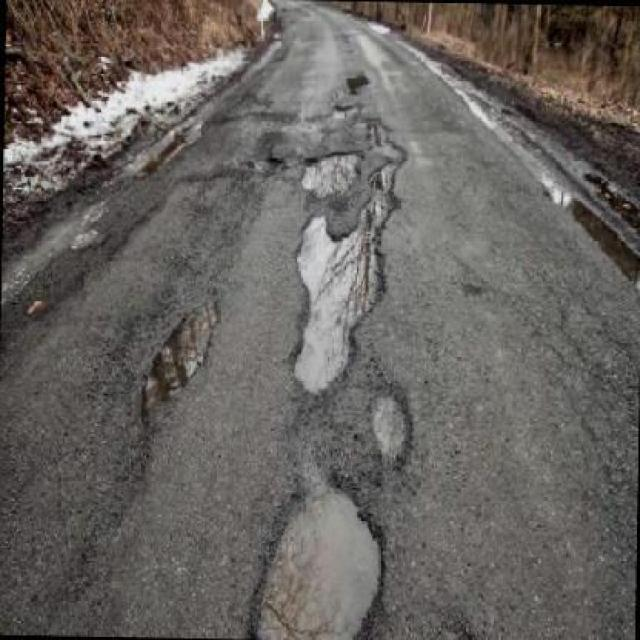Pothole: (295, 164, 396, 393), (258, 488, 380, 639), (141, 301, 220, 412), (371, 394, 410, 464), (302, 155, 360, 198)
